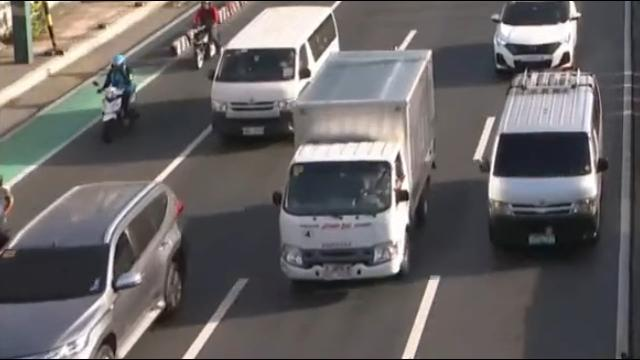car: (0, 183, 185, 360), (491, 0, 581, 76)
motorcycle: (93, 54, 137, 143), (188, 0, 223, 69)
truck: (276, 47, 437, 287)
van: (479, 72, 603, 253), (210, 7, 340, 147)
